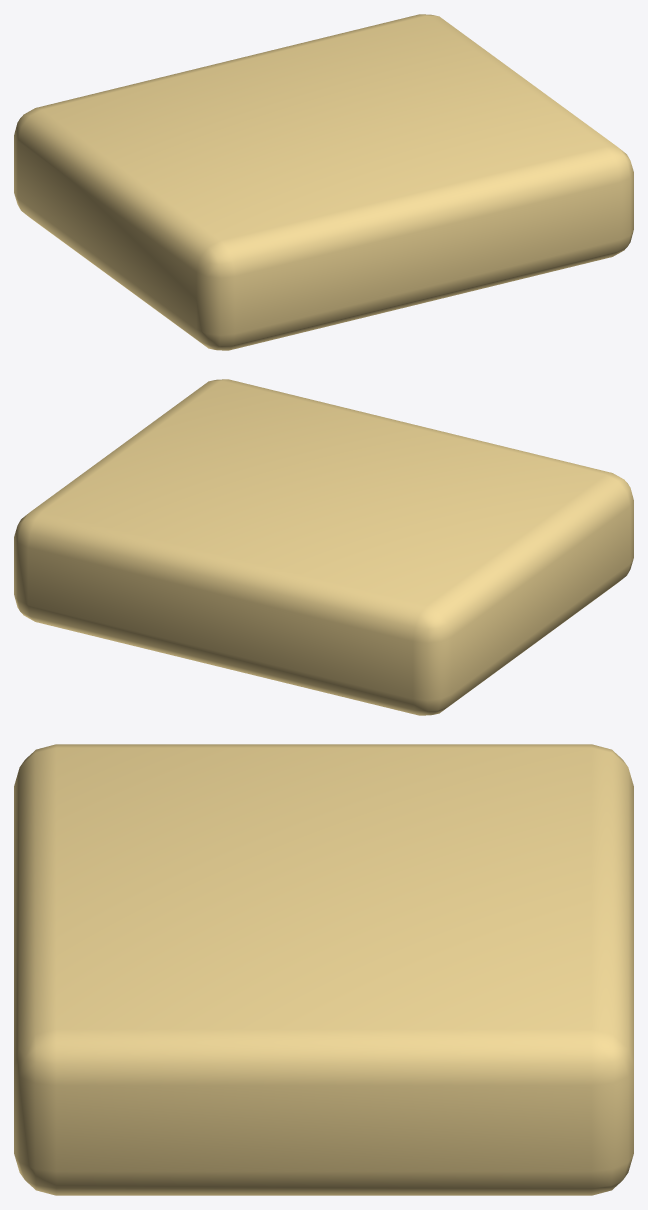
File: savory-butter.glb
The picture shows the model from 3 angles, top to bottom: view 1: azimuth 30°, elevation 25°; view 2: azimuth 150°, elevation 25°; view 3: azimuth 270°, elevation 25°; orthographic projection. The views are drawn at different scales.
Parts seen in each view (by area): view 1: savory-butter; view 2: savory-butter; view 3: savory-butter.
Boxes of the visible parts, left/top/right/bottom form: savory-butter: left=14, top=14, right=633, bottom=350; savory-butter: left=14, top=379, right=633, bottom=715; savory-butter: left=14, top=744, right=633, bottom=1195.
Size of the model in its own units: 0.46 by 0.11 by 0.38.
